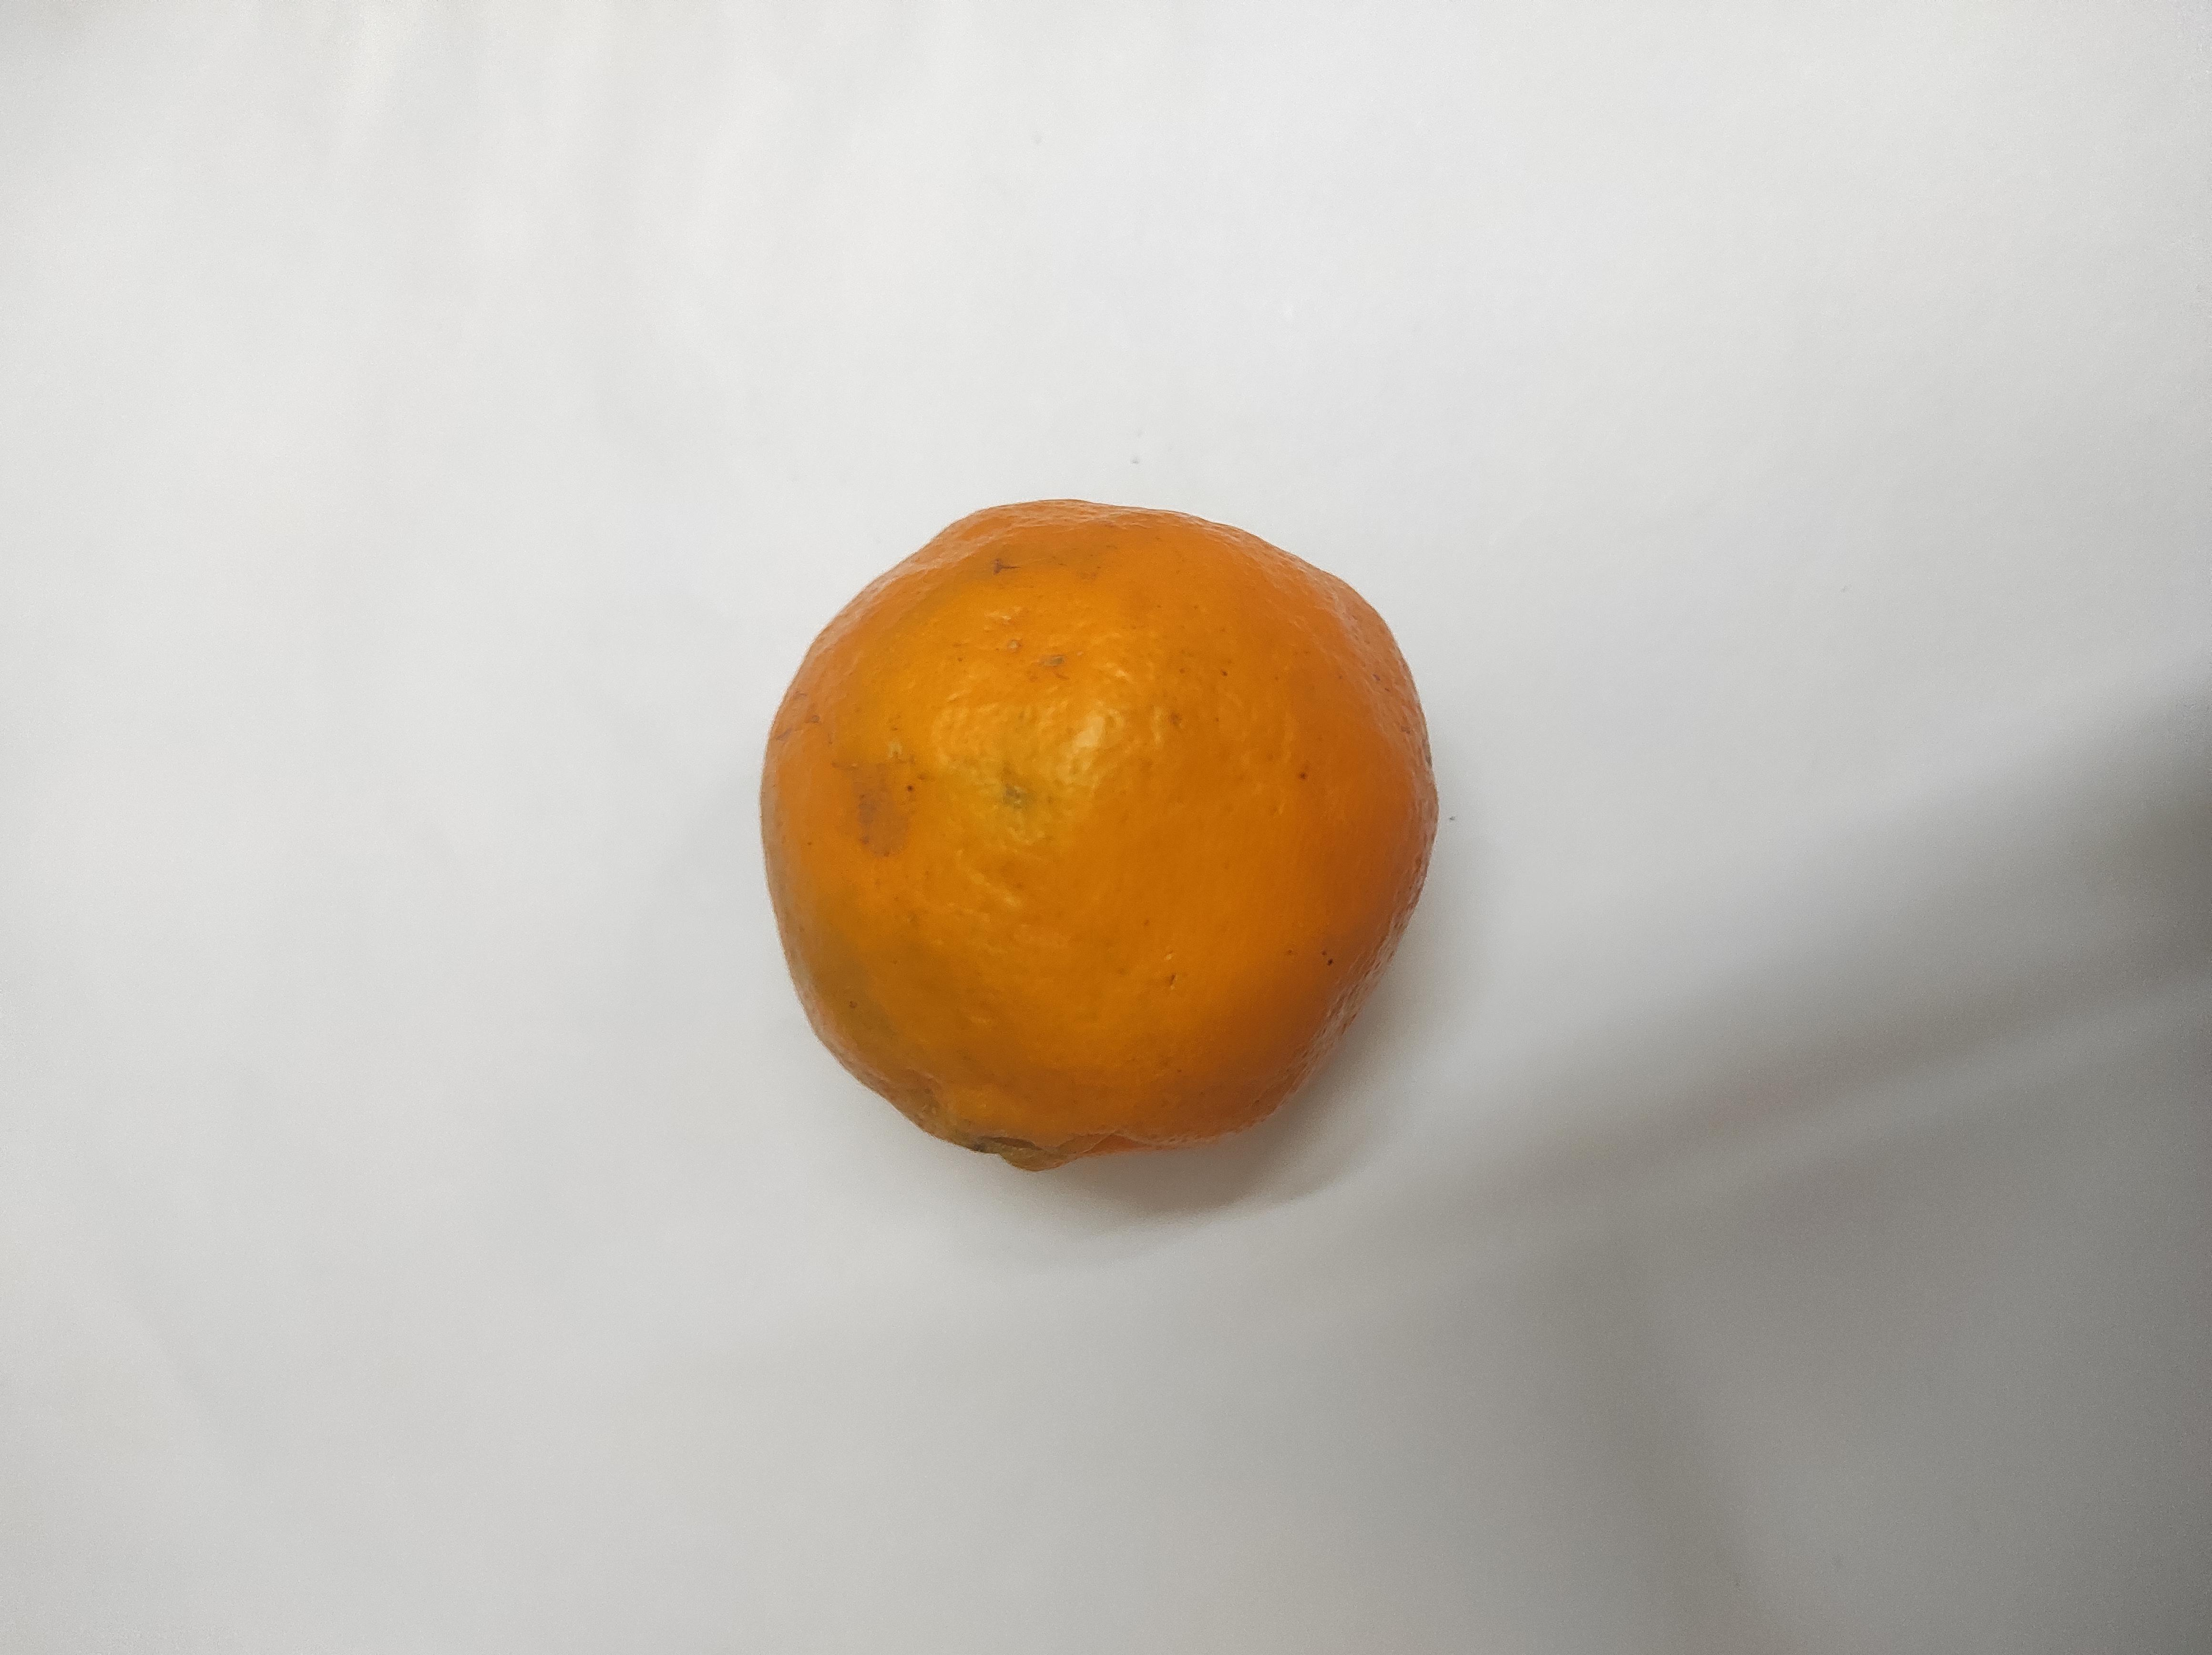Ripe: (767, 509, 1435, 1163)
